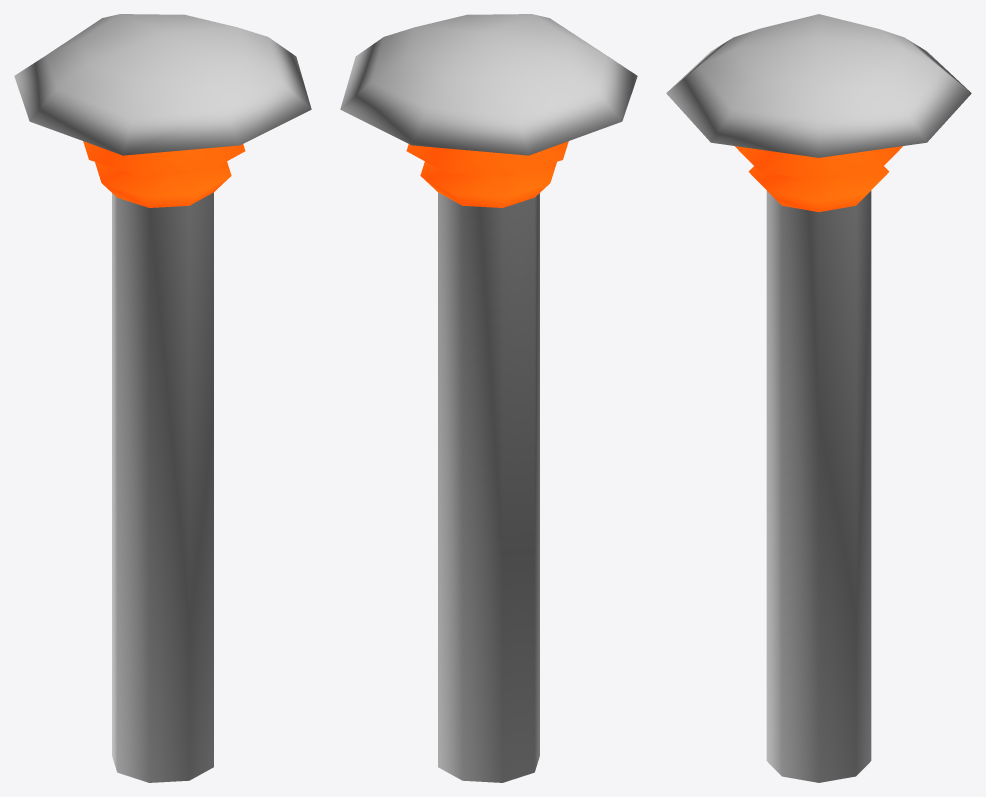
File: heatTower.fbx
3 views of the same model, side by side, from view 1: azimuth 30°, elevation 25°; view 2: azimuth 150°, elevation 25°; view 3: azimuth 270°, elevation 25° (orthographic).
Parts seen in each view (by area): view 1: heatTower; view 2: heatTower; view 3: heatTower.
Boxes of the visible parts, x1,y1,x2,y2 form: heatTower: (14, 14, 311, 782); heatTower: (340, 14, 637, 782); heatTower: (666, 14, 971, 782).
Size of the model in its own units: 291 by 760 by 291.
